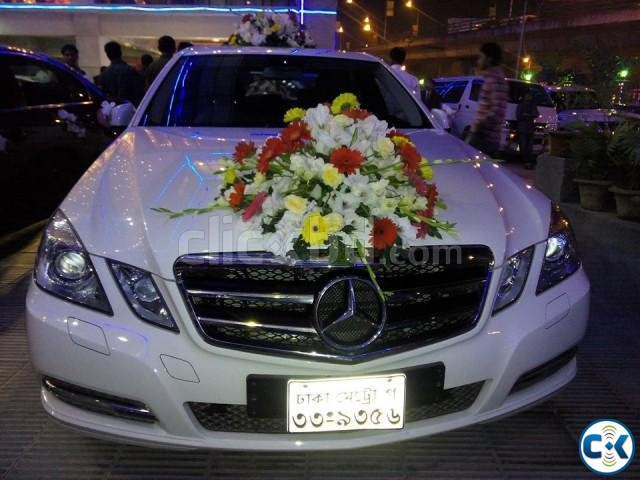registration_plate: (285, 372, 406, 435)
